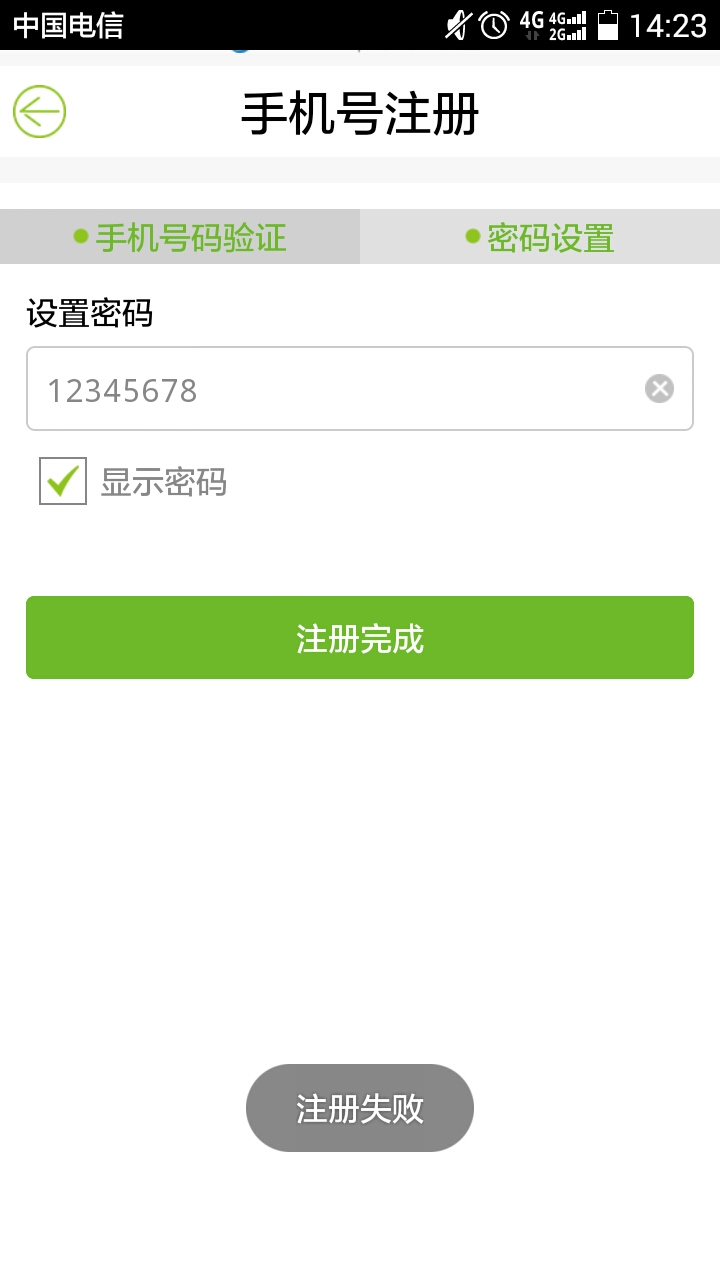alert: (243, 1058, 478, 1156)
checkbox: (33, 446, 232, 514)
imgbutton: (1, 77, 70, 149)
